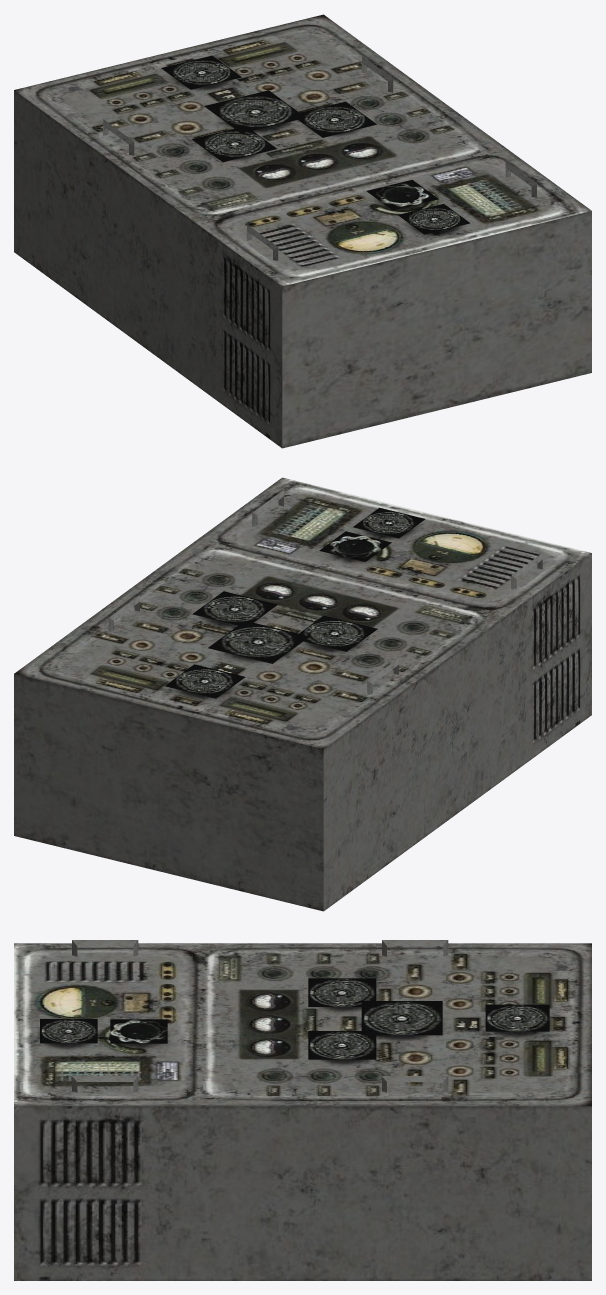
The model's file is military_german_radio2_grey_obj.glb.
3 views of the same model, one above another, from view 1: azimuth 30°, elevation 25°; view 2: azimuth 150°, elevation 25°; view 3: azimuth 270°, elevation 25° (orthographic). The views are drawn at different scales.
Bounding box in the file's own units: 24.43 × 13.29 × 36.64.
Materials: 3 (3 with a texture image).
